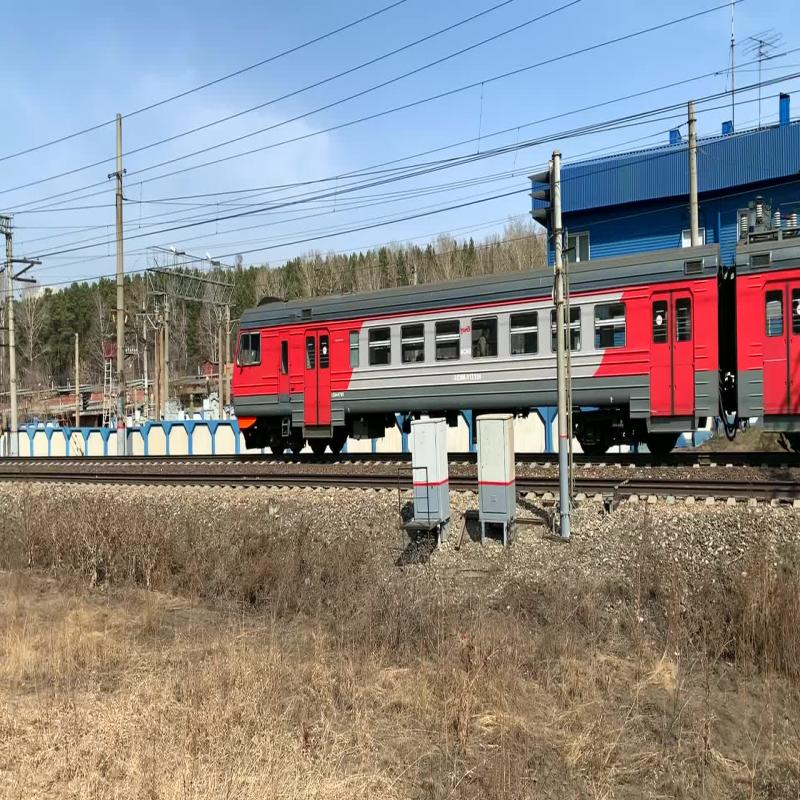train: (225, 231, 796, 512)
